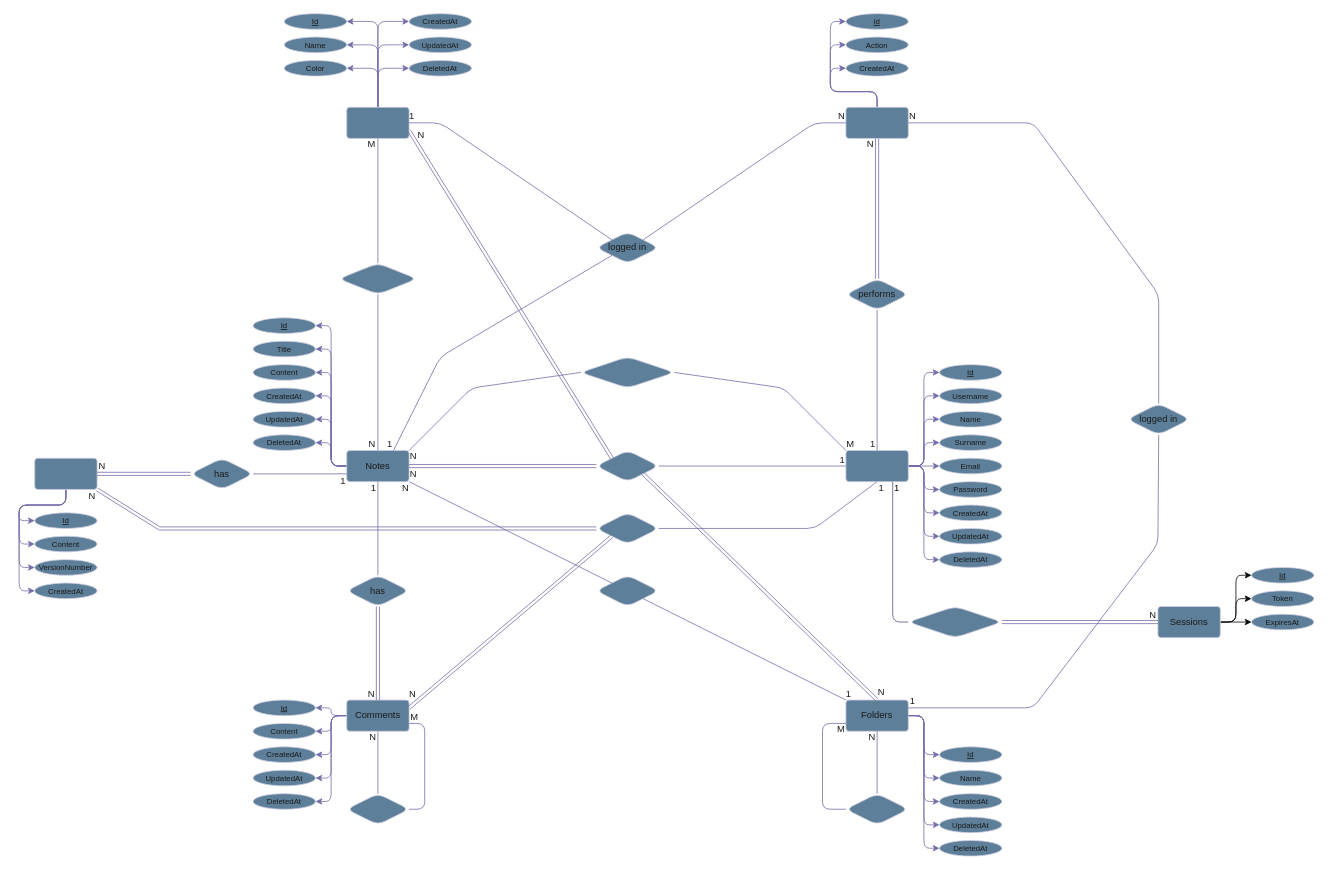
The diagram is 1328 pixels wide and 870 high, and some of its shapes have lost their labels. The shapes that lost their labels are listed below. From the top down, each one's box as (x1, y1, x2, y2) in pixels, then its label:
(346, 106, 409, 138): Tags
(845, 106, 908, 138): Logs
(338, 262, 417, 294): is tagged with
(580, 356, 674, 388): collaborates on
(34, 457, 97, 489): Versions
(596, 450, 659, 482): owns
(845, 450, 908, 482): Accounts
(596, 512, 659, 544): creates
(596, 574, 659, 606): is wrapped
(908, 606, 1002, 638): has active
(346, 793, 409, 825): replies to
(845, 793, 908, 825): wraps
